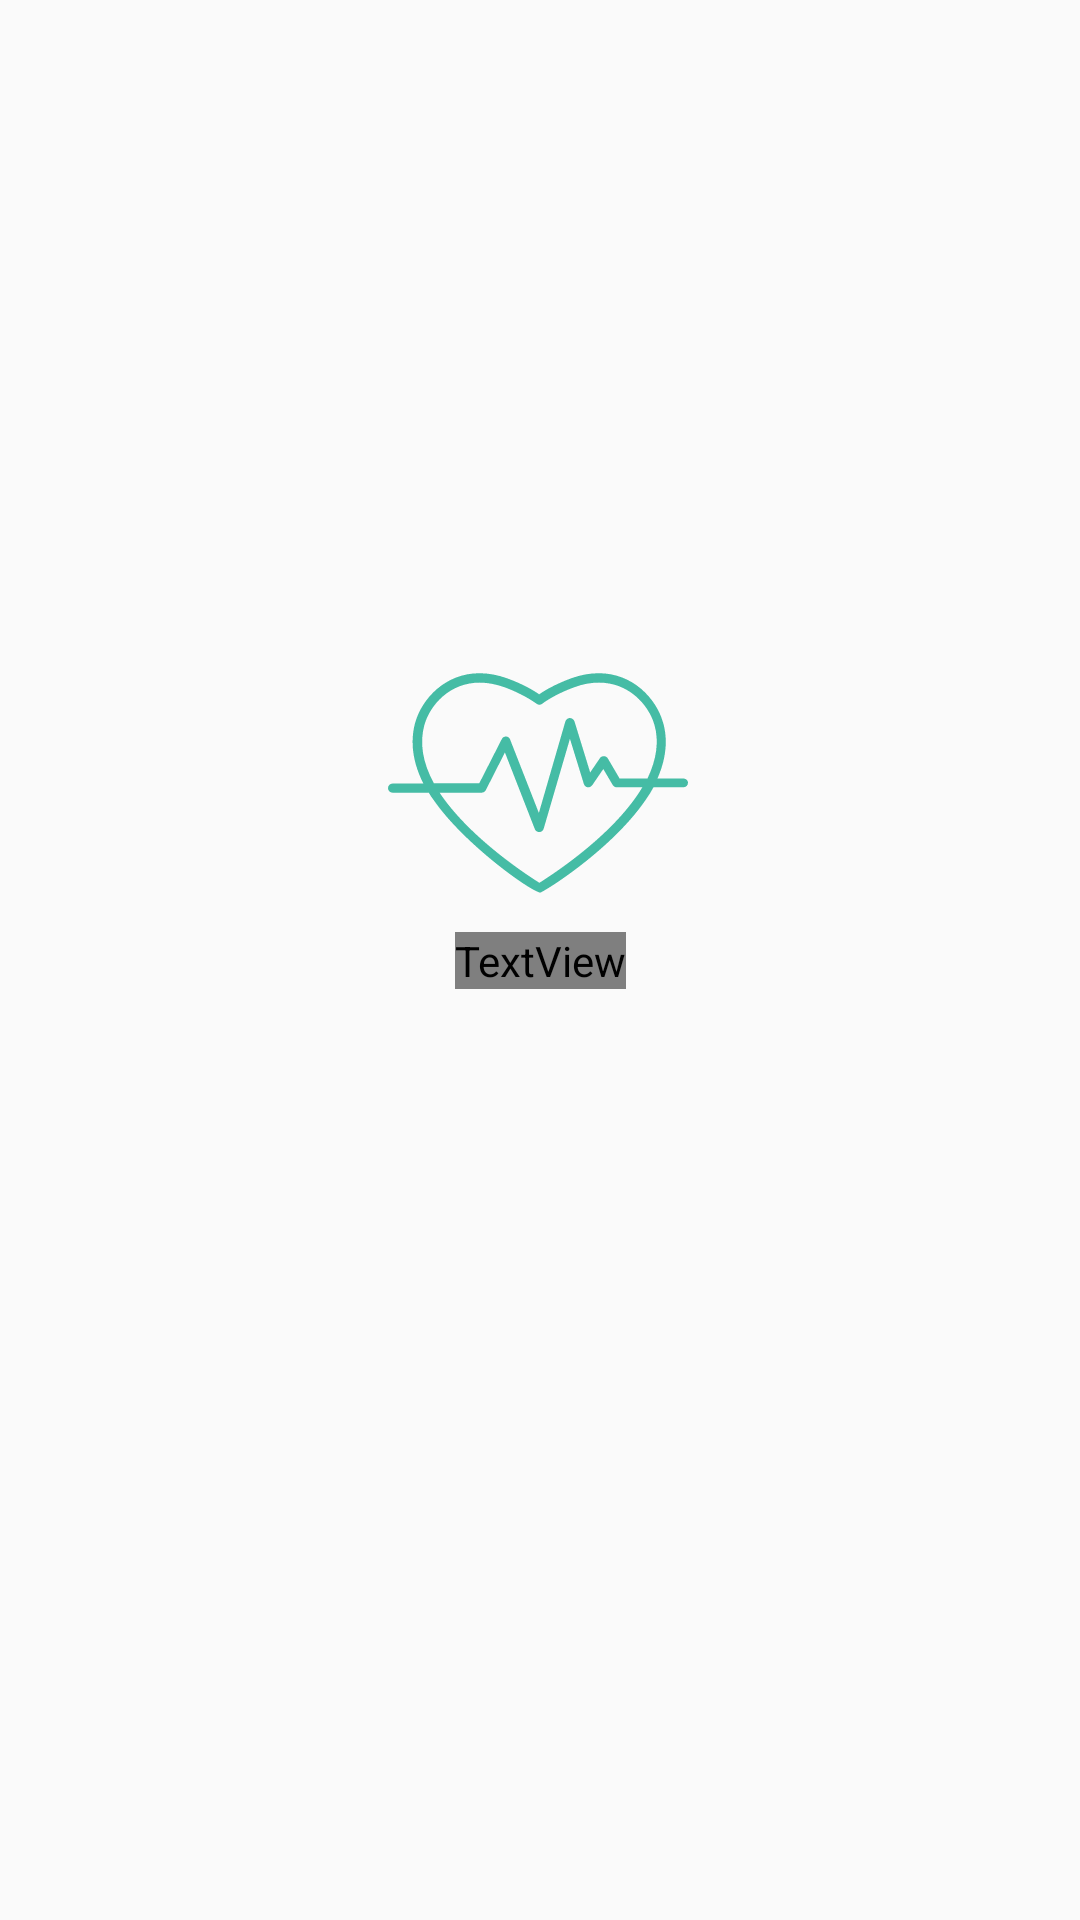

Point at icon controls on the screen. Image size 1080x1920, points as (x=x, y=y).
heart: (x=538, y=783)
